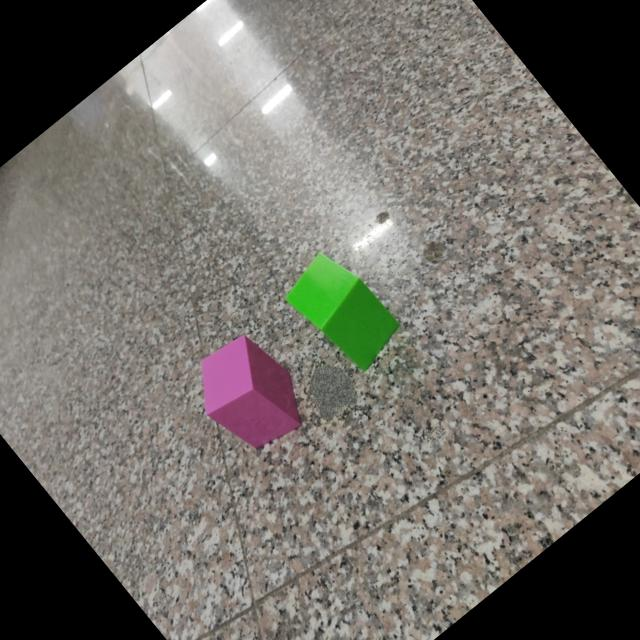green: (285, 254, 401, 371)
pink: (202, 335, 305, 450)
